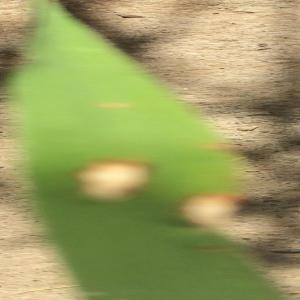Rice_Blast: (58, 144, 169, 218), (168, 176, 257, 234)
